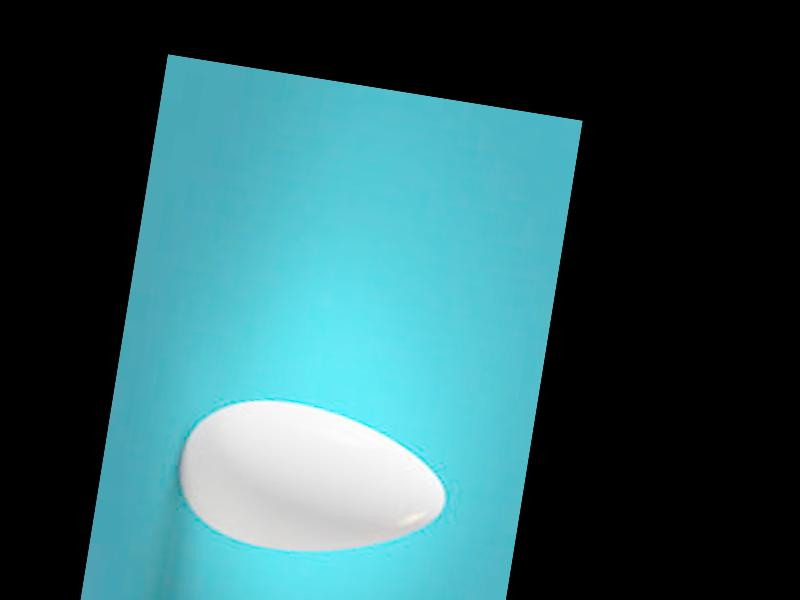Eggs: (169, 386, 454, 574)
